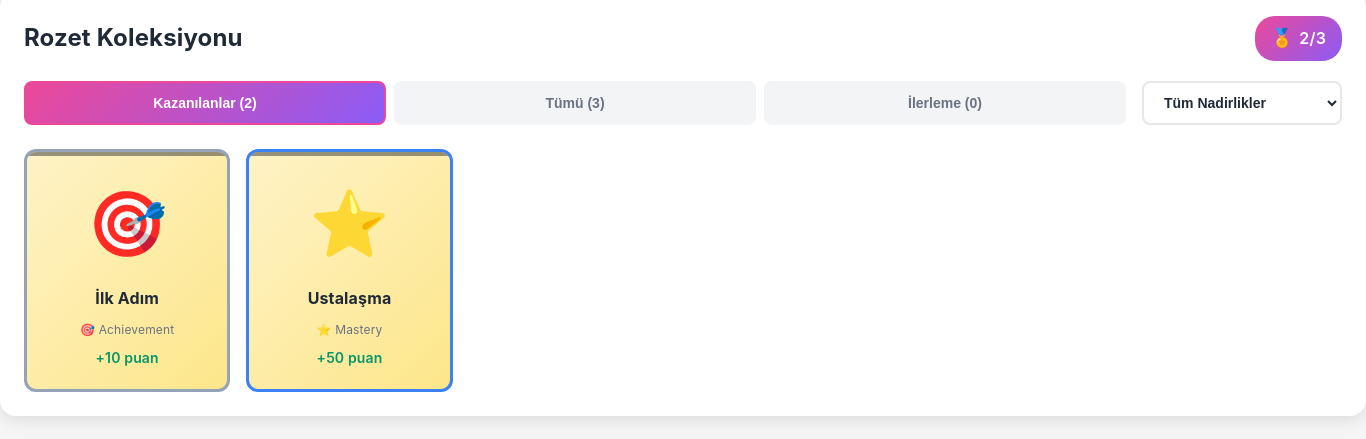
Scenario: BadgeCollection - Empty States › shows no badges found when filtered
This screenshot has width=1366, height=439.
Click the button "Tümü (3)" at (575, 103), box [394,81,756,125]
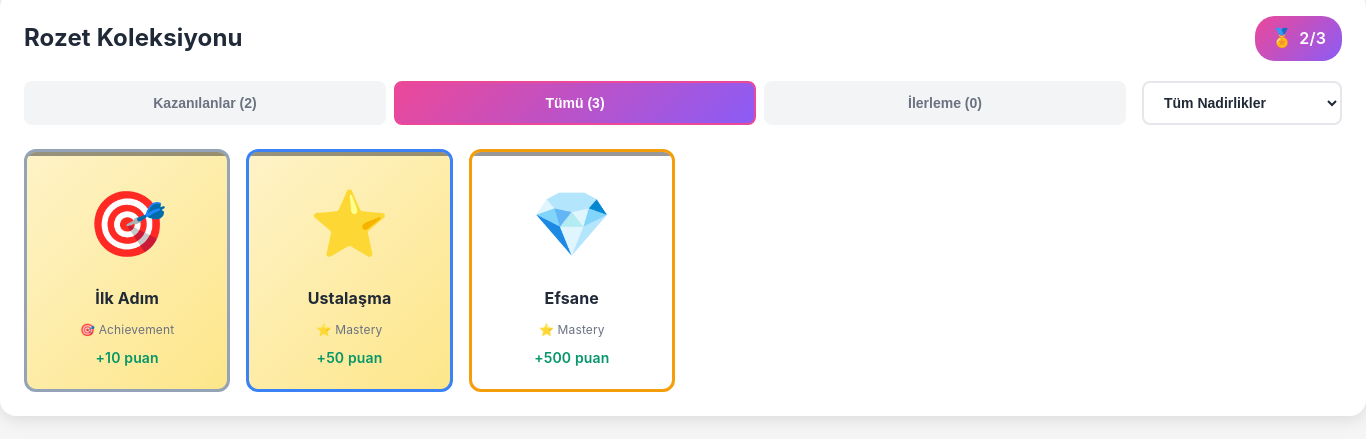
Select "Epik" in the dropdown at (1242, 103), box [1142,81,1342,125]
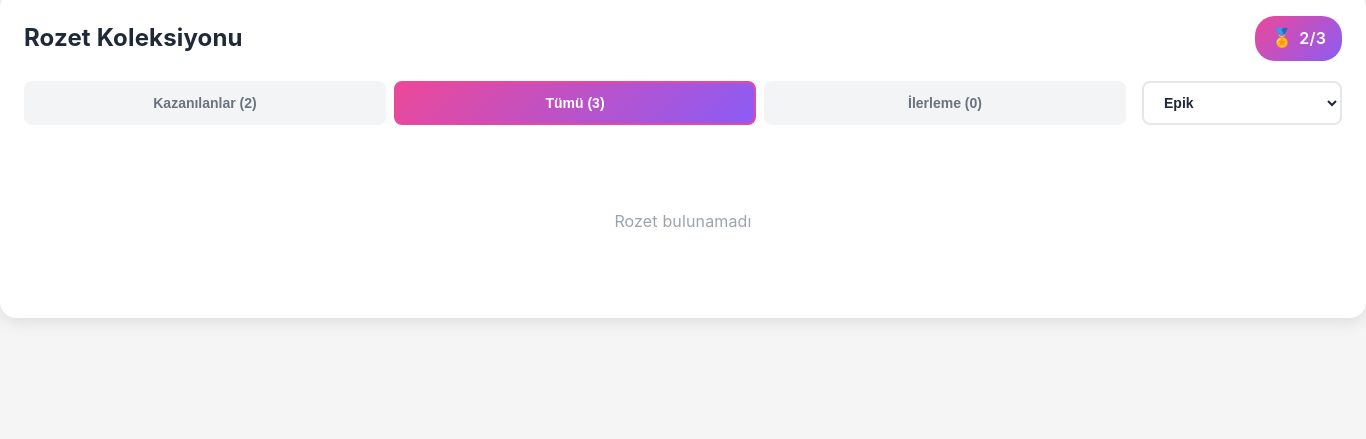
Expected: the text "Rozet bulunamadı" is shown, [614,211,752,231]
